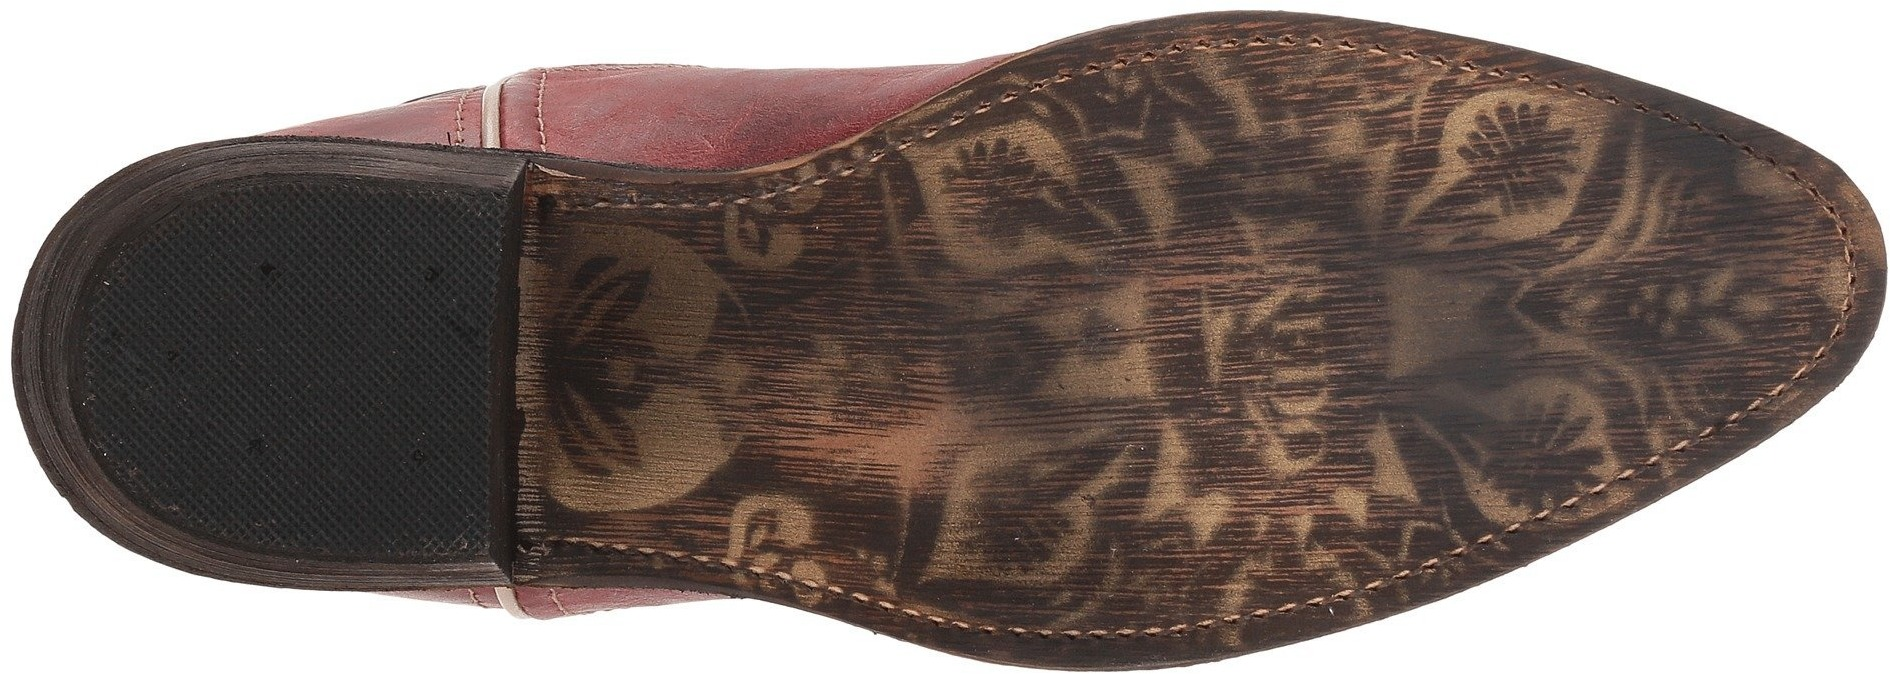other: (186, 212, 492, 516)
